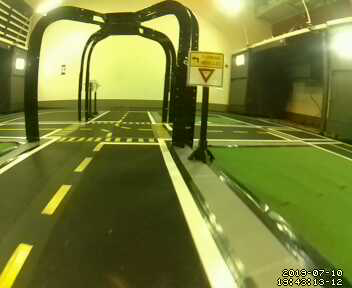Turn Yield: (189, 51, 223, 87)
